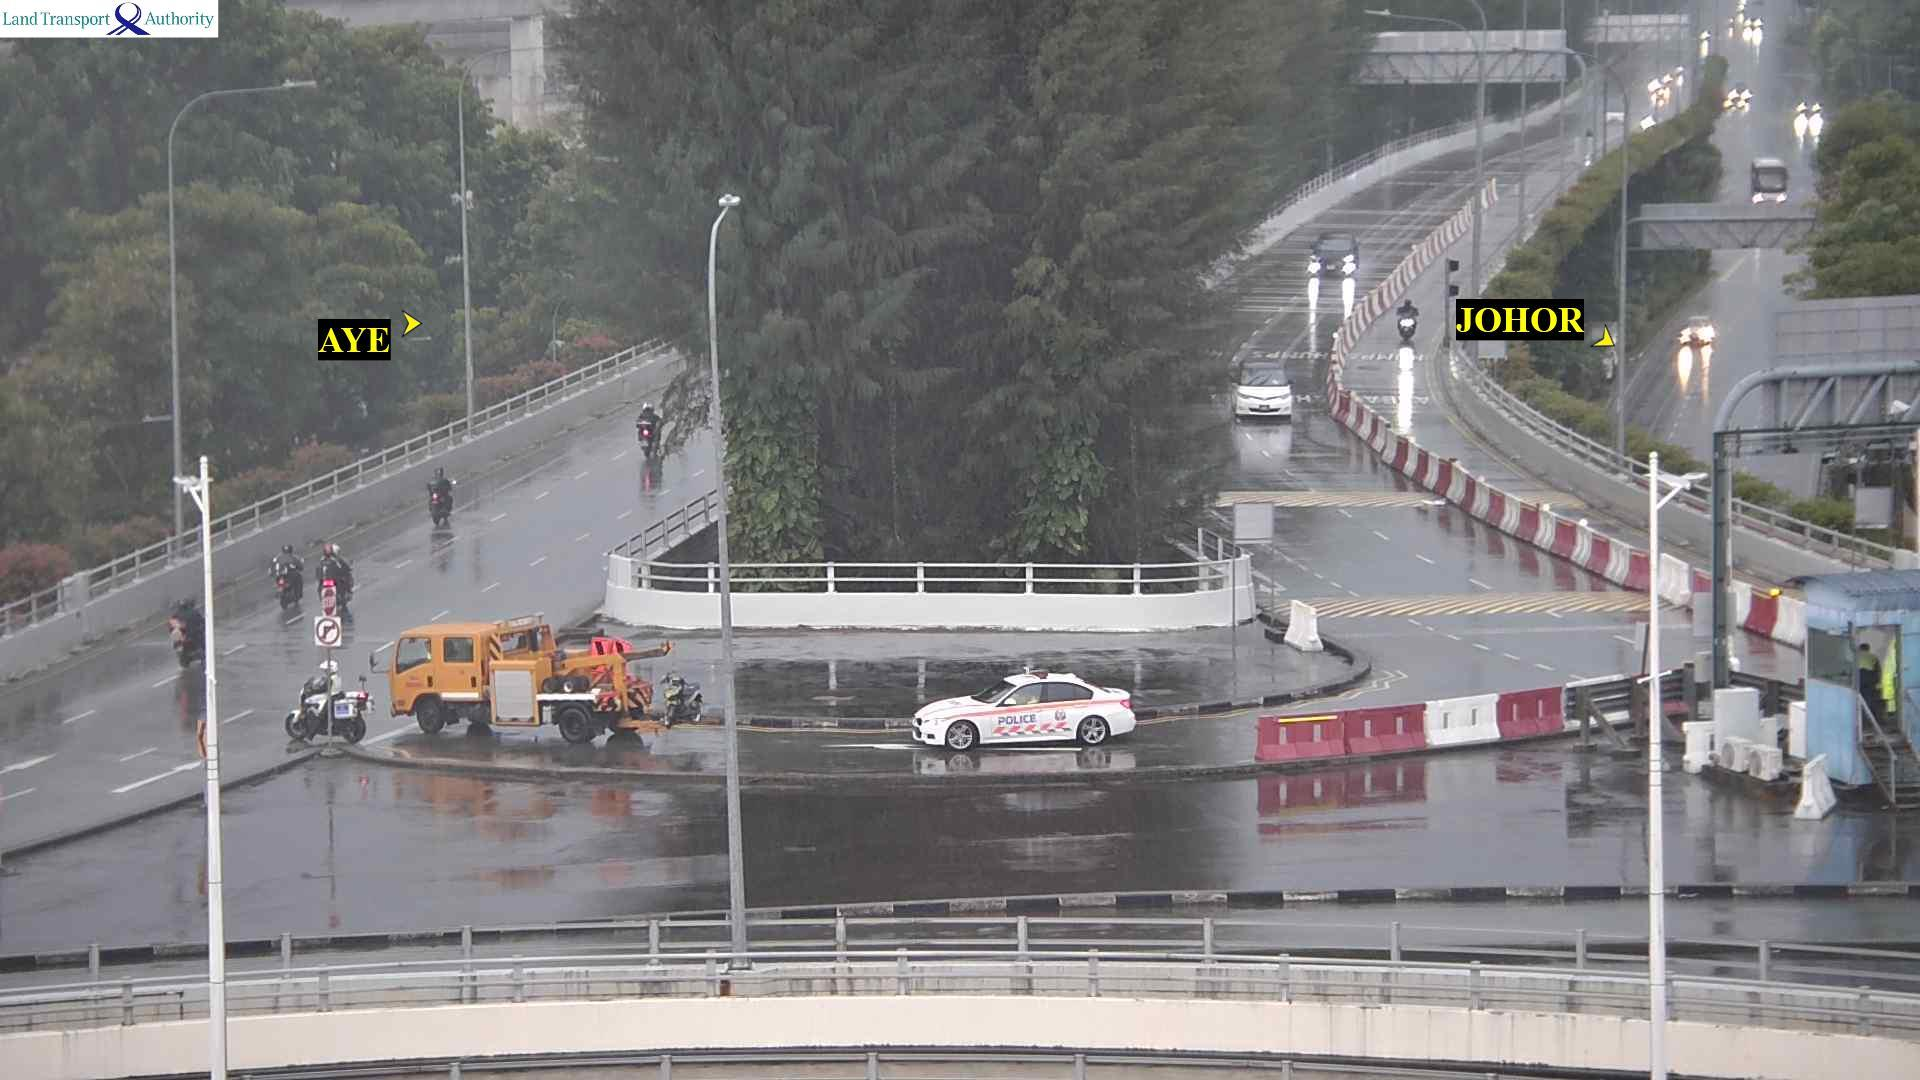vehicle-secondlink-johor: (1234, 356, 1290, 417), (1308, 234, 1355, 280), (1400, 304, 1416, 345)
vehicle-secondlink-singapore: (390, 625, 676, 738), (908, 664, 1130, 754), (297, 663, 357, 733), (320, 545, 351, 614), (171, 601, 199, 655), (431, 467, 455, 530), (632, 397, 653, 451), (278, 542, 296, 604)
